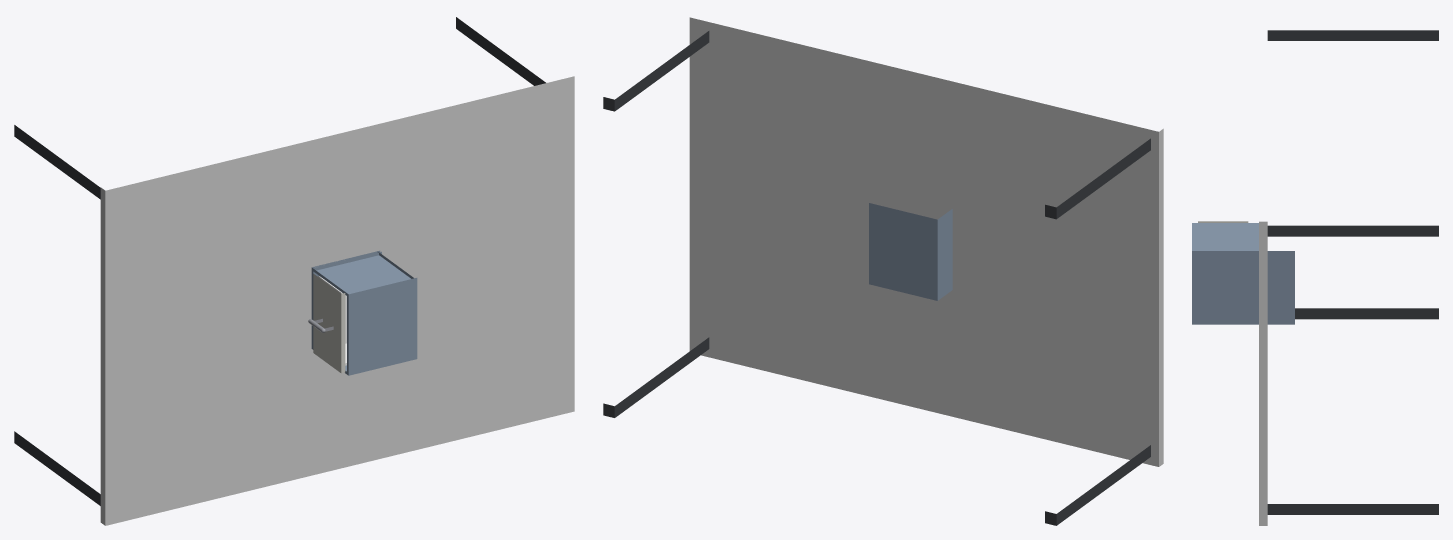
The picture shows the model from 3 angles, left to right: view 1: azimuth 30°, elevation 25°; view 2: azimuth 150°, elevation 25°; view 3: azimuth 270°, elevation 25°; orthographic projection. The views are drawn at different scales.
Visible parts, largest first — view 1: s0, s1, s2; view 2: s0, s1; view 3: s0, s1.
Part boxes in pixels (left/top/right/bottom): s0: left=14, top=17, right=574, bottom=525; s1: left=311, top=250, right=417, bottom=375; s2: left=308, top=274, right=346, bottom=373; s0: left=603, top=17, right=1163, bottom=525; s1: left=869, top=203, right=952, bottom=300; s0: left=1259, top=30, right=1438, bottom=525; s1: left=1192, top=223, right=1294, bottom=324.
Size of the model in its own units: 2.05 by 1.4 by 1.03.
